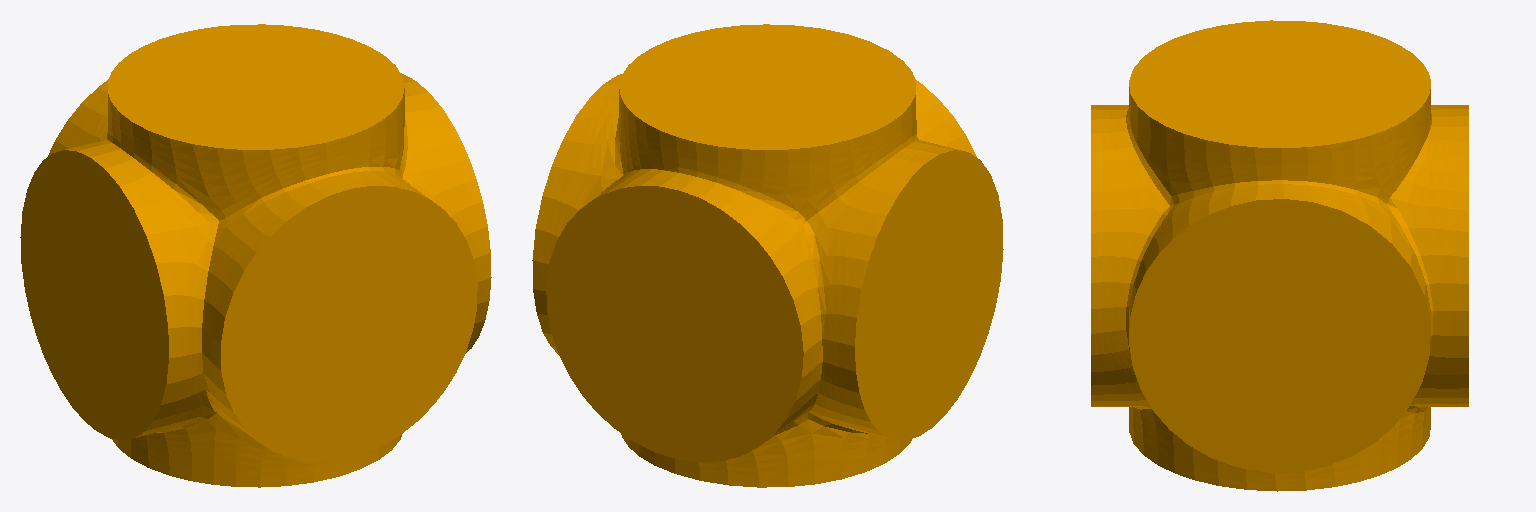
robot.urdf — object:
<robot name="object">
  <link name="object">
    <visual>
      <origin xyz="0 0 0"/>
      <geometry>
        <mesh filename="visual.obj" scale="1 1 1"/>
      </geometry>
    </visual>
    <collision>
      <origin xyz="0 0 0"/>
      <geometry>
        <mesh filename="visual.obj" scale="1 1 1"/>
      </geometry>
    </collision>
    <inertial>
      <mass value="0.05"/>
      <inertia ixx="6.154859244318015e-05" iyy="6.15364780528461e-05" izz="6.153973986624857e-05" ixy="7.519599560415924e-09" ixz="-4.7654055320552375e-09" iyz="-5.368304157244813e-09"/>
    </inertial>
  </link>
</robot>

--- Render facts (derived) ---
The picture shows the robot from 3 angles, left to right: view 1: azimuth 30°, elevation 25°; view 2: azimuth 150°, elevation 25°; view 3: azimuth 270°, elevation 25°; orthographic projection.
Model object with 1 links and 0 joints (none), rooted at object, posed every joint at zero.
Links seen in each view (by area): view 1: object; view 2: object; view 3: object.
Boxes of the visible links, bbox=[...] form: object: bbox=[20, 24, 491, 487]; object: bbox=[532, 24, 1003, 487]; object: bbox=[1091, 20, 1468, 491].
Size in the robot's own frame: 0.096 by 0.096 by 0.096 metres.
1 mesh visuals loaded from 1 distinct referenced files (1 OBJ).
